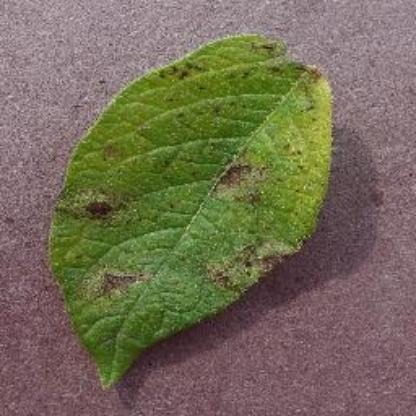Late-Blight: (47, 24, 342, 390)
